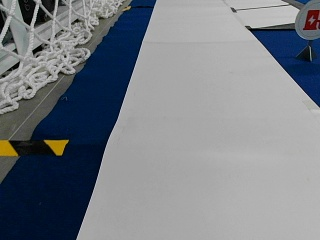battery: (297, 1, 319, 41)
